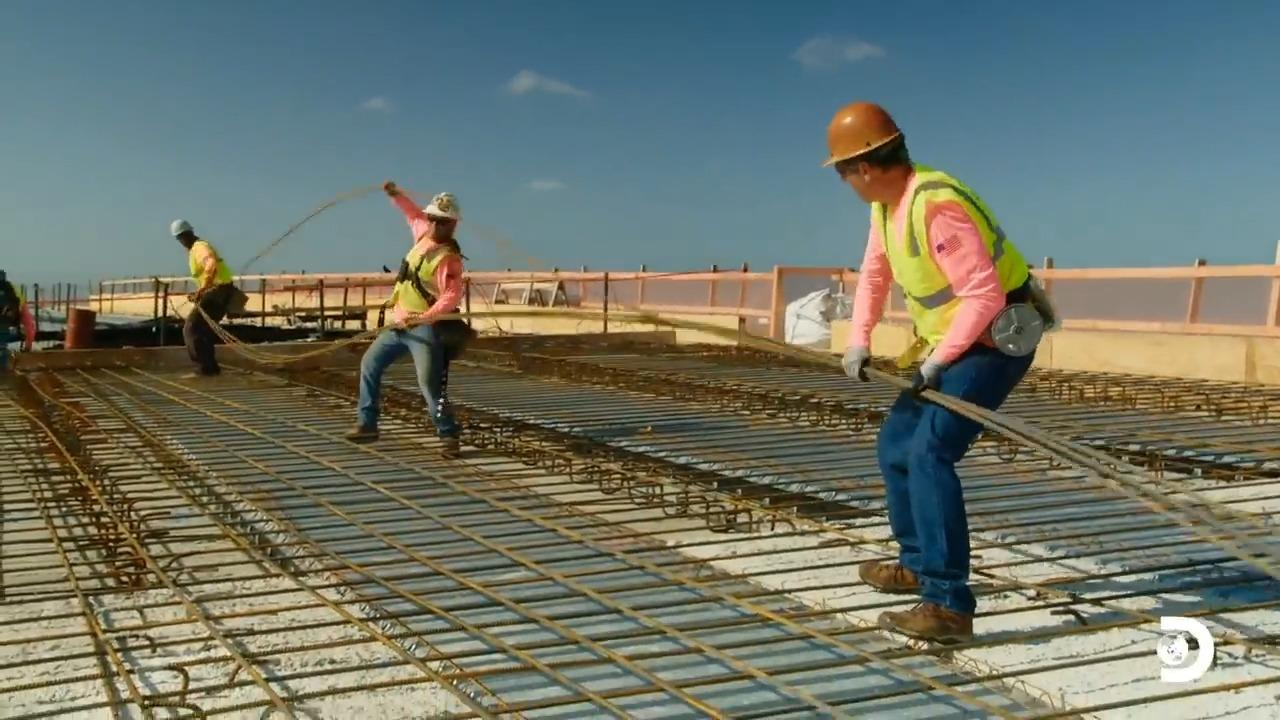Gloves: (897, 349, 945, 395), (835, 341, 878, 375), (400, 306, 430, 328), (381, 178, 398, 198)
Helmet: (821, 101, 902, 168), (421, 191, 460, 220), (169, 218, 193, 237)
Person: (821, 101, 1056, 644), (344, 180, 466, 459), (169, 218, 234, 376)
Safety Boot: (888, 592, 975, 659), (863, 556, 910, 584), (345, 422, 377, 444), (441, 433, 462, 457)
Safety Vest: (901, 197, 1023, 320), (398, 254, 465, 332), (192, 245, 230, 280)
